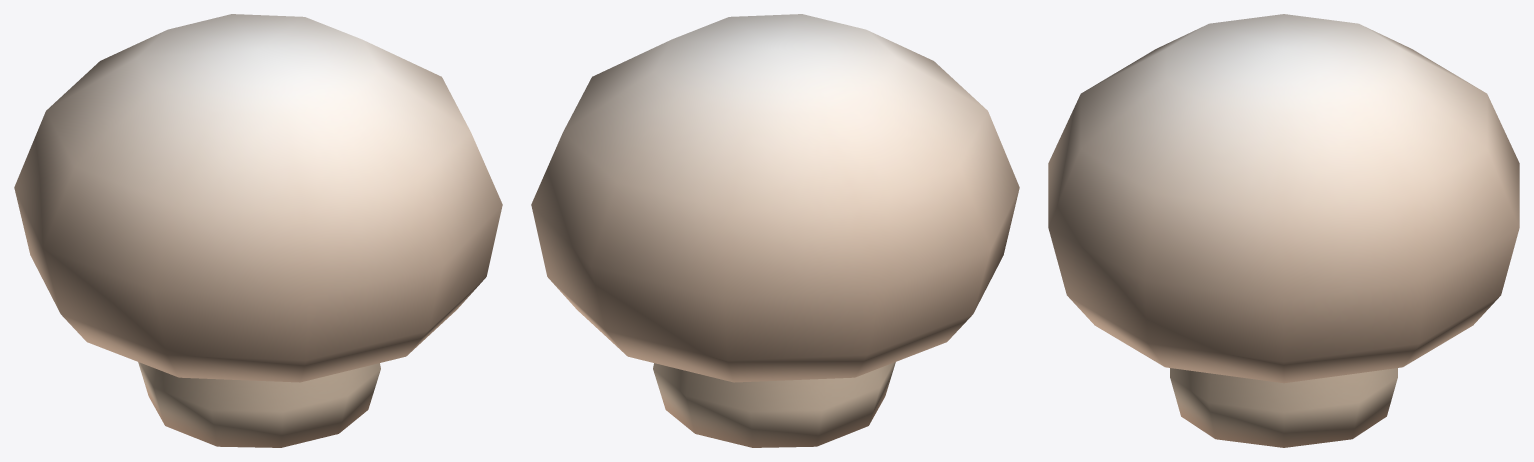
Rendered from Mushroom_White.fbx.
The picture shows the model from 3 angles, left to right: view 1: azimuth 30°, elevation 25°; view 2: azimuth 150°, elevation 25°; view 3: azimuth 270°, elevation 25°; orthographic projection.
Parts seen in each view (by area): view 1: Mushroom_White; view 2: Mushroom_White; view 3: Mushroom_White.
Boxes of the visible parts, x1=… form: Mushroom_White: x1=14, y1=14, x2=502, y2=447; Mushroom_White: x1=531, y1=14, x2=1019, y2=447; Mushroom_White: x1=1048, y1=14, x2=1519, y2=447.
Size of the model in its own units: 34.81 by 27.26 by 32.98.
